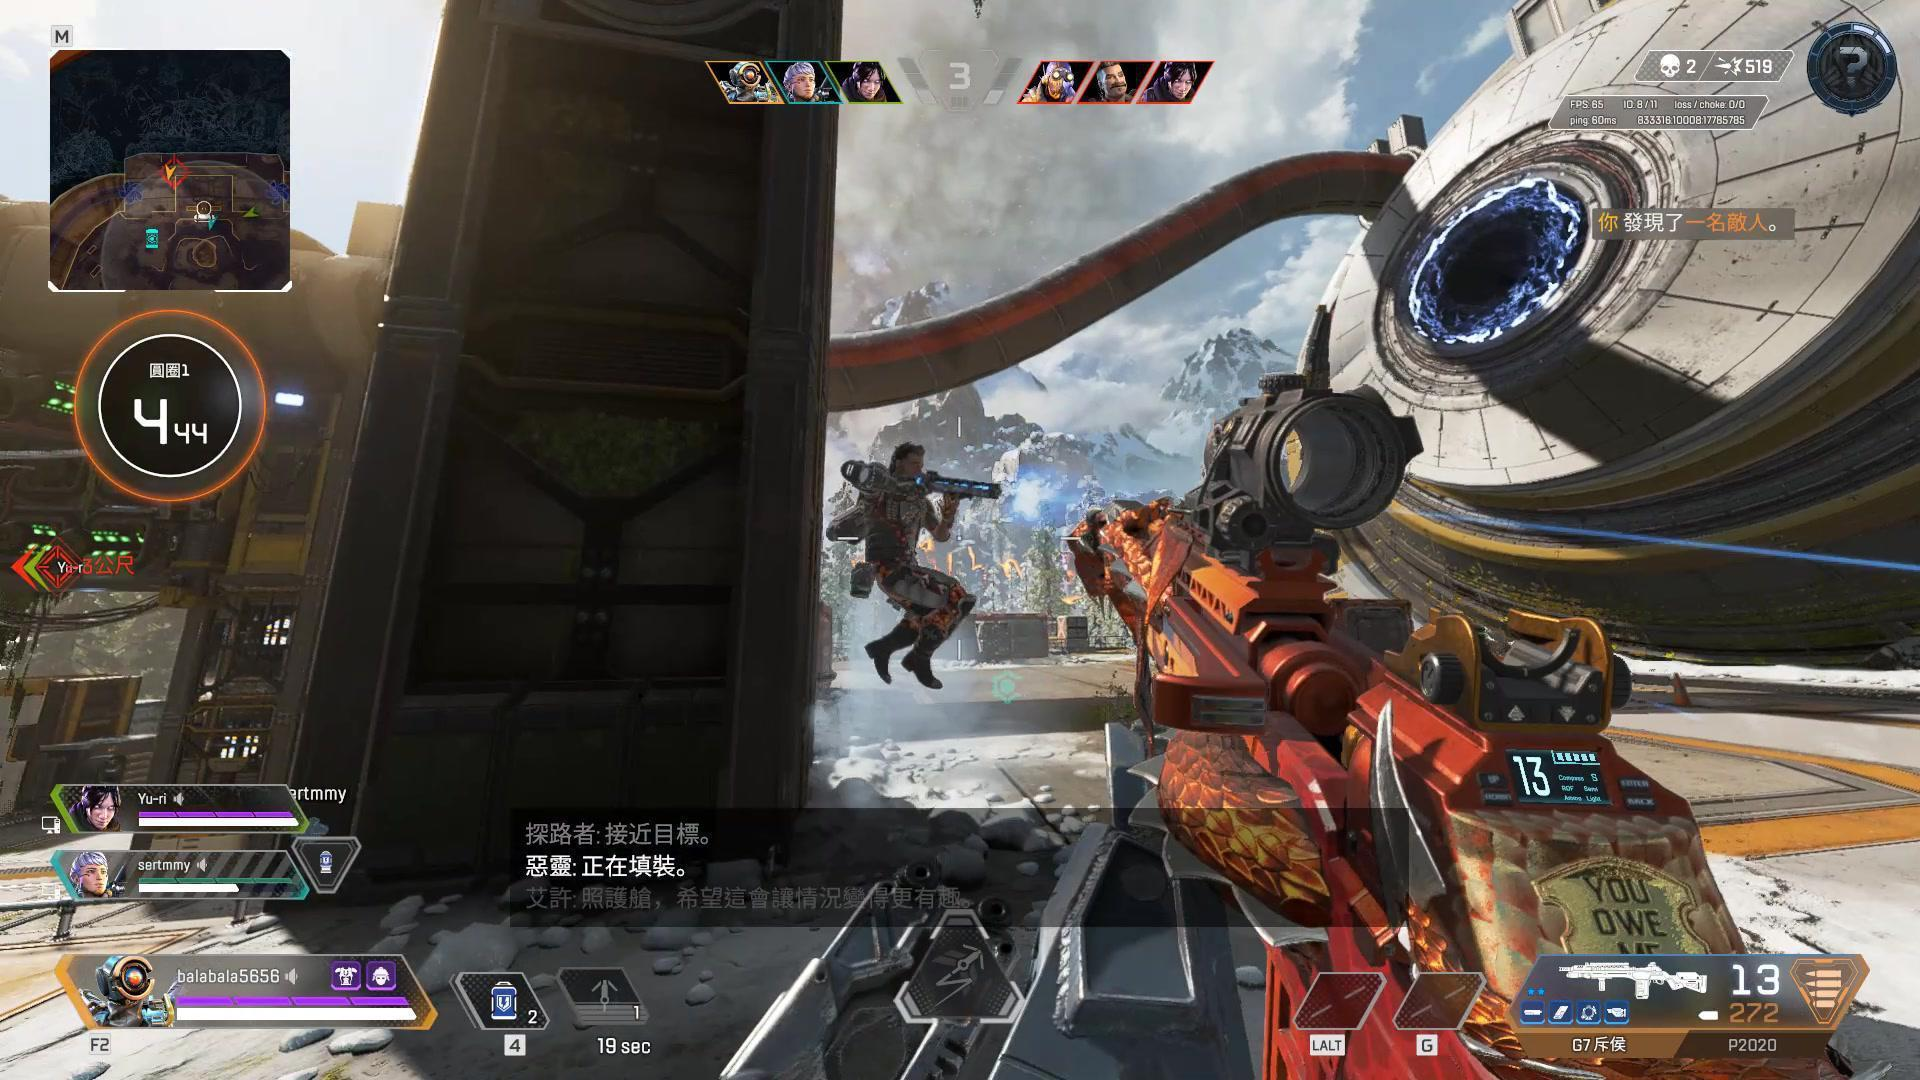avatar: (823, 440, 979, 690)
